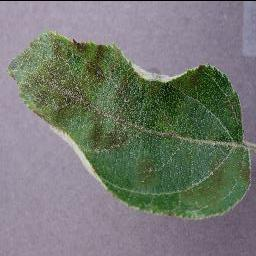apple healthy: (7, 29, 253, 220)
